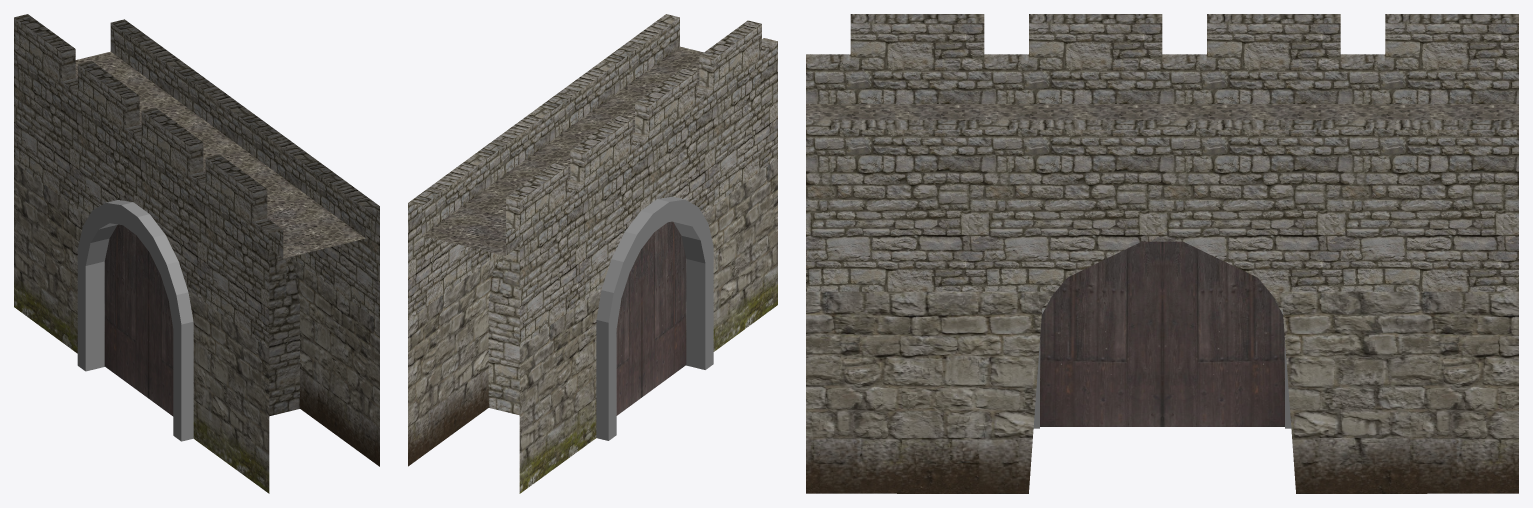
Rendered from Gate.fbx.
The picture shows the model from 3 angles, left to right: view 1: azimuth 30°, elevation 25°; view 2: azimuth 150°, elevation 25°; view 3: azimuth 270°, elevation 25°; orthographic projection. The views are drawn at different scales.
Parts seen in each view (by area): view 1: Object_poorlords_bricks.jpg, Object_wall_bottom_moss.jpg, Object_wall_bottom_mud.jpg, Object_default-grey.jpg, Object_poorlords_gate.jpg, Object_poorlords_battlements_floor.jpg; view 2: Object_poorlords_bricks.jpg, Object_wall_bottom_moss.jpg, Object_wall_bottom_mud.jpg, Object_default-grey.jpg, Object_poorlords_gate.jpg, Object_poorlords_battlements_floor.jpg; view 3: Object_poorlords_bricks.jpg, Object_wall_bottom_mud.jpg, Object_poorlords_gate.jpg, Object_poorlords_battlements_floor.jpg.
Part boxes in pixels (<box>): Object_poorlords_bricks.jpg: <box>14,14,379,416</box>; Object_wall_bottom_moss.jpg: <box>14,162,269,493</box>; Object_wall_bottom_mud.jpg: <box>290,257,379,466</box>; Object_default-grey.jpg: <box>77,200,193,441</box>; Object_poorlords_gate.jpg: <box>104,224,173,416</box>; Object_poorlords_battlements_floor.jpg: <box>75,51,365,258</box>; Object_poorlords_bricks.jpg: <box>408,14,777,415</box>; Object_wall_bottom_moss.jpg: <box>519,159,777,493</box>; Object_wall_bottom_mud.jpg: <box>408,254,498,466</box>; Object_default-grey.jpg: <box>596,196,713,440</box>; Object_poorlords_gate.jpg: <box>616,221,686,415</box>; Object_poorlords_battlements_floor.jpg: <box>422,46,703,255</box>; Object_poorlords_bricks.jpg: <box>806,14,1518,314</box>; Object_wall_bottom_mud.jpg: <box>806,291,1518,493</box>; Object_poorlords_gate.jpg: <box>1040,241,1284,426</box>; Object_poorlords_battlements_floor.jpg: <box>806,104,1518,120</box>.
Size of the model in its own units: 0.6934 by 1.57 by 2.5.
Materials: 6 (6 with a texture image).
